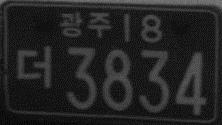1: (121, 11, 133, 44)
3: (65, 45, 97, 108), (139, 47, 169, 113)
4: (175, 52, 207, 115)
8: (101, 49, 132, 111), (140, 12, 164, 45)
광주_O: (58, 9, 112, 39)
더: (16, 44, 52, 90)
